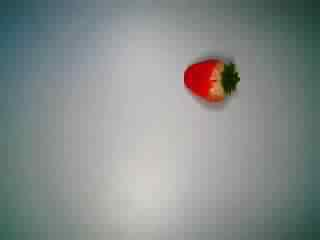strawberry: (174, 48, 242, 112)
